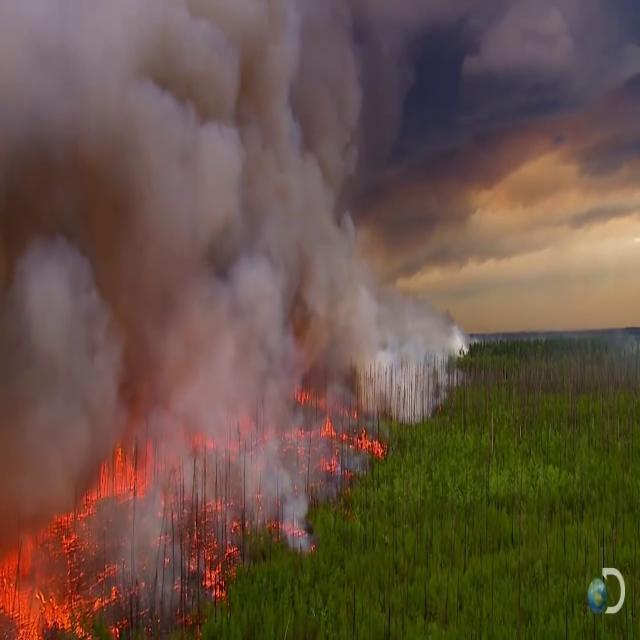Fire: (285, 373, 383, 550), (157, 431, 235, 606), (72, 472, 139, 640), (12, 536, 70, 640), (102, 450, 158, 499)
Smoke: (4, 4, 279, 392), (286, 150, 448, 358)
